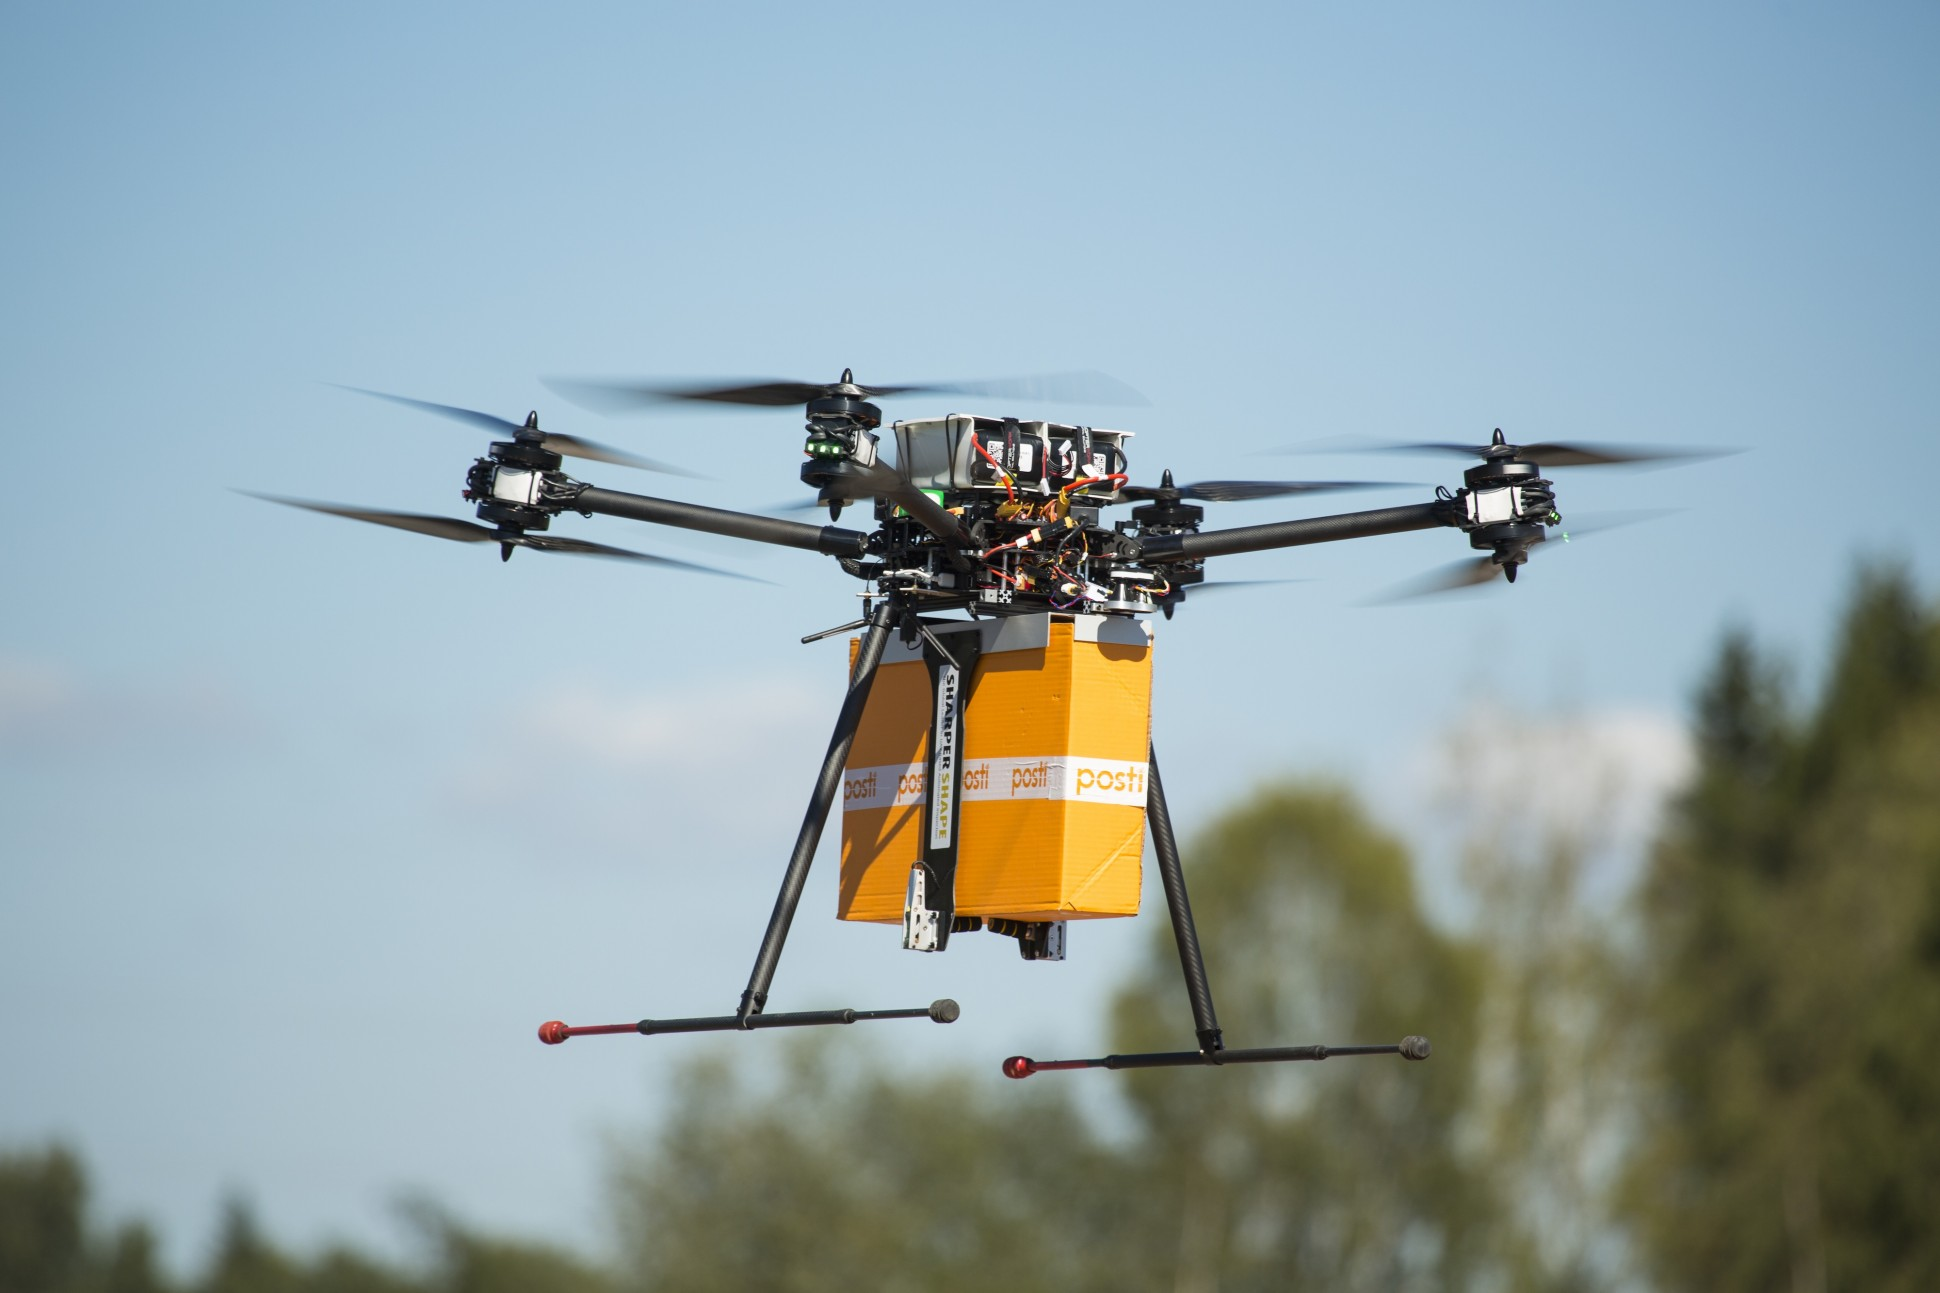drone: (222, 361, 1758, 1085)
